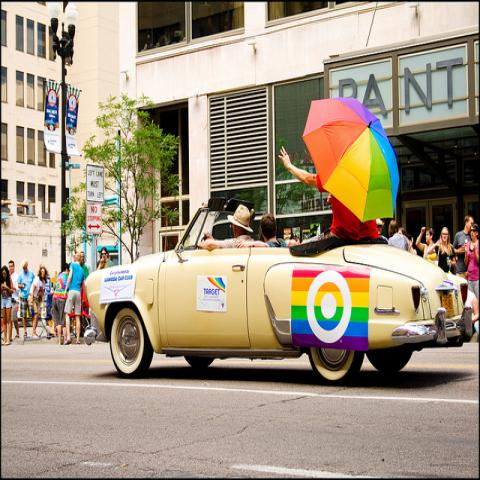car: (84, 196, 479, 388)
